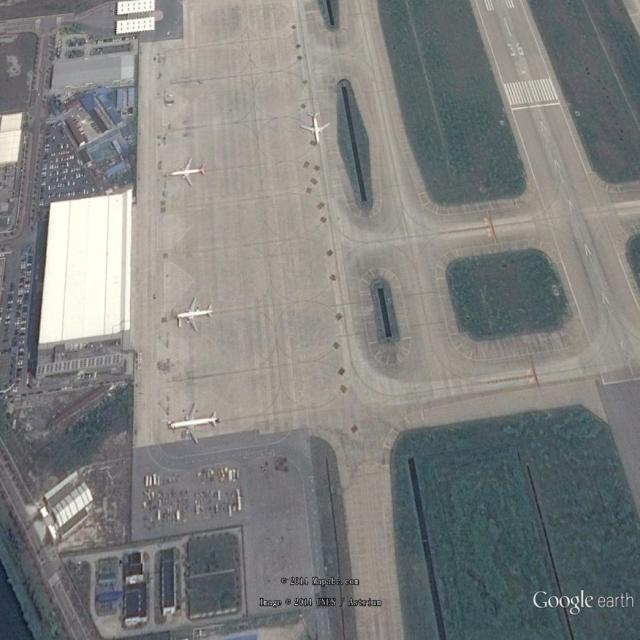aircraft: (167, 398, 226, 450), (175, 294, 214, 334), (168, 155, 207, 190), (299, 109, 333, 146)
